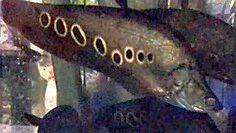Knifefish: (1, 1, 221, 114)
